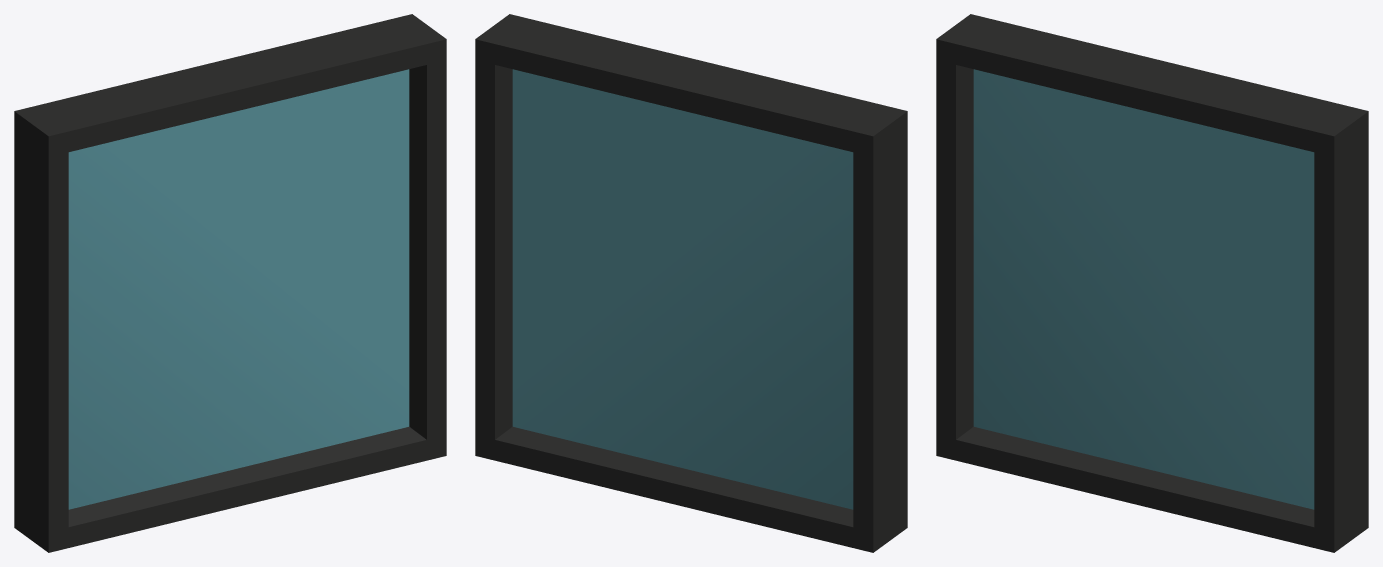
The model's file is shortWindowLightStraight.fbx.
The picture shows the model from 3 angles, left to right: view 1: azimuth 30°, elevation 25°; view 2: azimuth 150°, elevation 25°; view 3: azimuth 330°, elevation 25°; orthographic projection.
Parts seen in each view (by area): view 1: shortWindowLightStraight; view 2: shortWindowLightStraight; view 3: shortWindowLightStraight.
Part boxes in pixels (x1,y1,x2,y2): shortWindowLightStraight: (14, 14, 446, 552); shortWindowLightStraight: (475, 14, 907, 552); shortWindowLightStraight: (936, 14, 1368, 552).
Bounding box in the file's own units: 200 × 200 × 30.
Materials: 1 (1 with a texture image).
